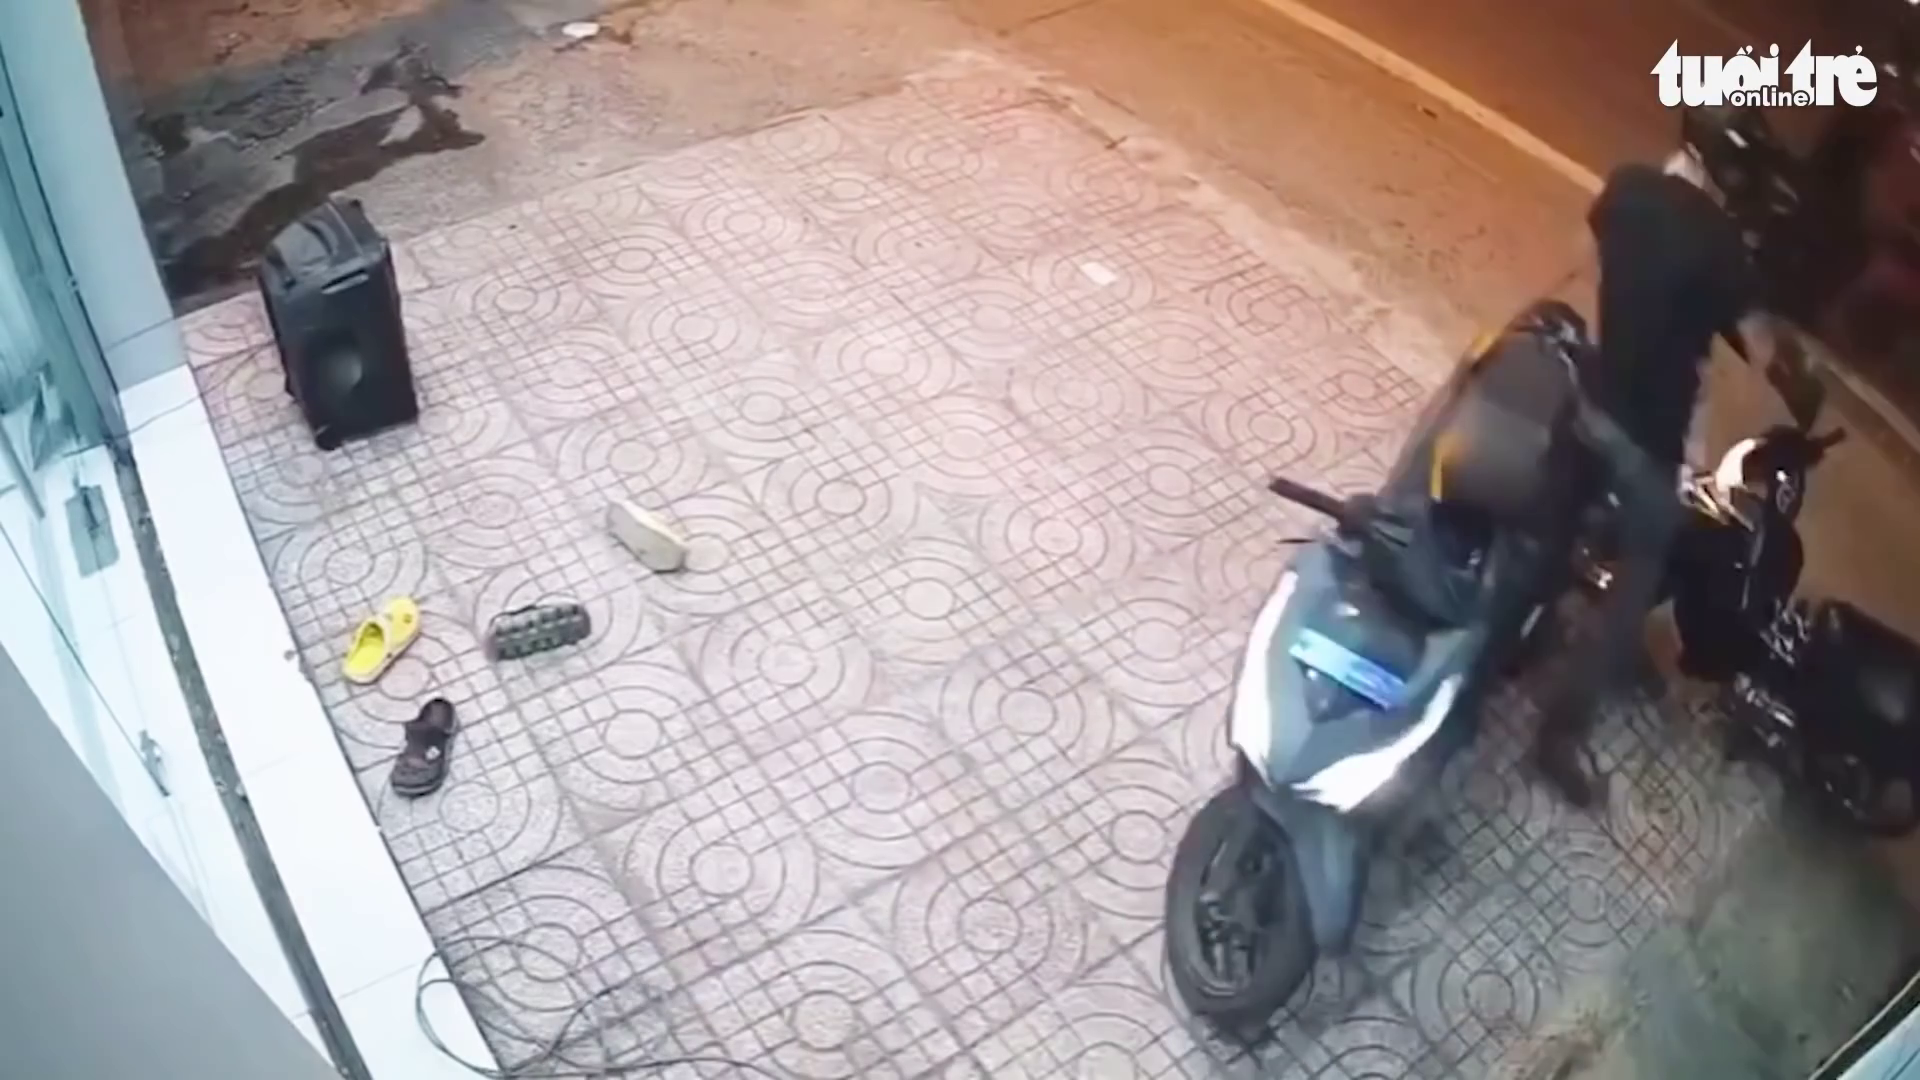Motorcycle: (1162, 297, 1917, 1051), (1159, 299, 1617, 1034)
